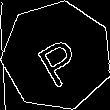P_NW: (28, 25, 86, 87)
